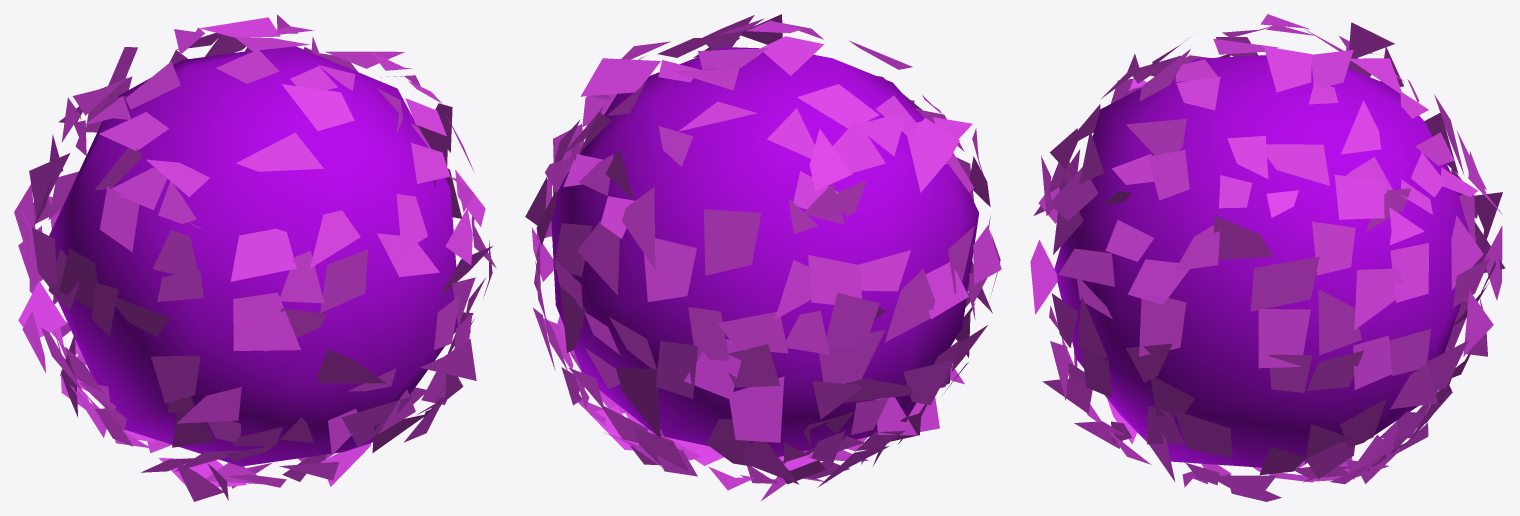
File: Bush.fbx
3 renders of one model, left to right at view 1: azimuth 30°, elevation 25°; view 2: azimuth 150°, elevation 25°; view 3: azimuth 270°, elevation 25°, orthographic.
Visible parts, largest first — view 1: Cube.001; view 2: Cube.001; view 3: Cube.001.
Part boxes in pixels (x1=…): Cube.001: x1=14, y1=14, x2=496, y2=501; Cube.001: x1=525, y1=14, x2=1001, y2=501; Cube.001: x1=1030, y1=14, x2=1505, y2=501.
Size of the model in its own units: 195 by 188 by 190.
